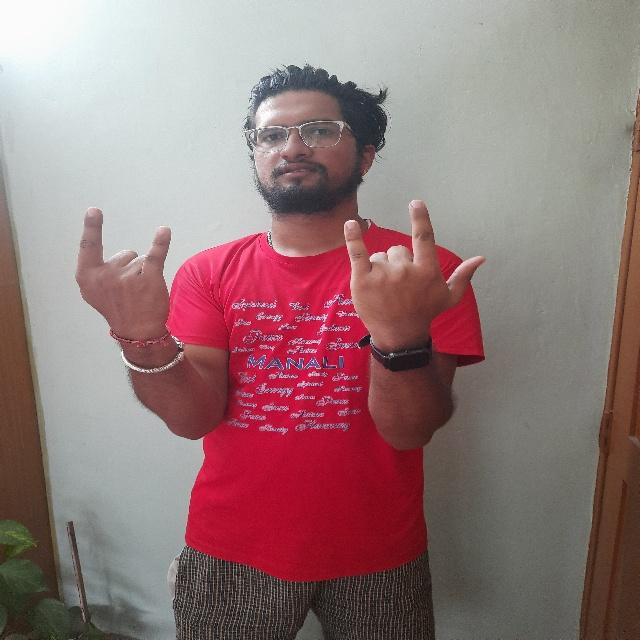Corna: (337, 196, 491, 360), (61, 200, 193, 354)
